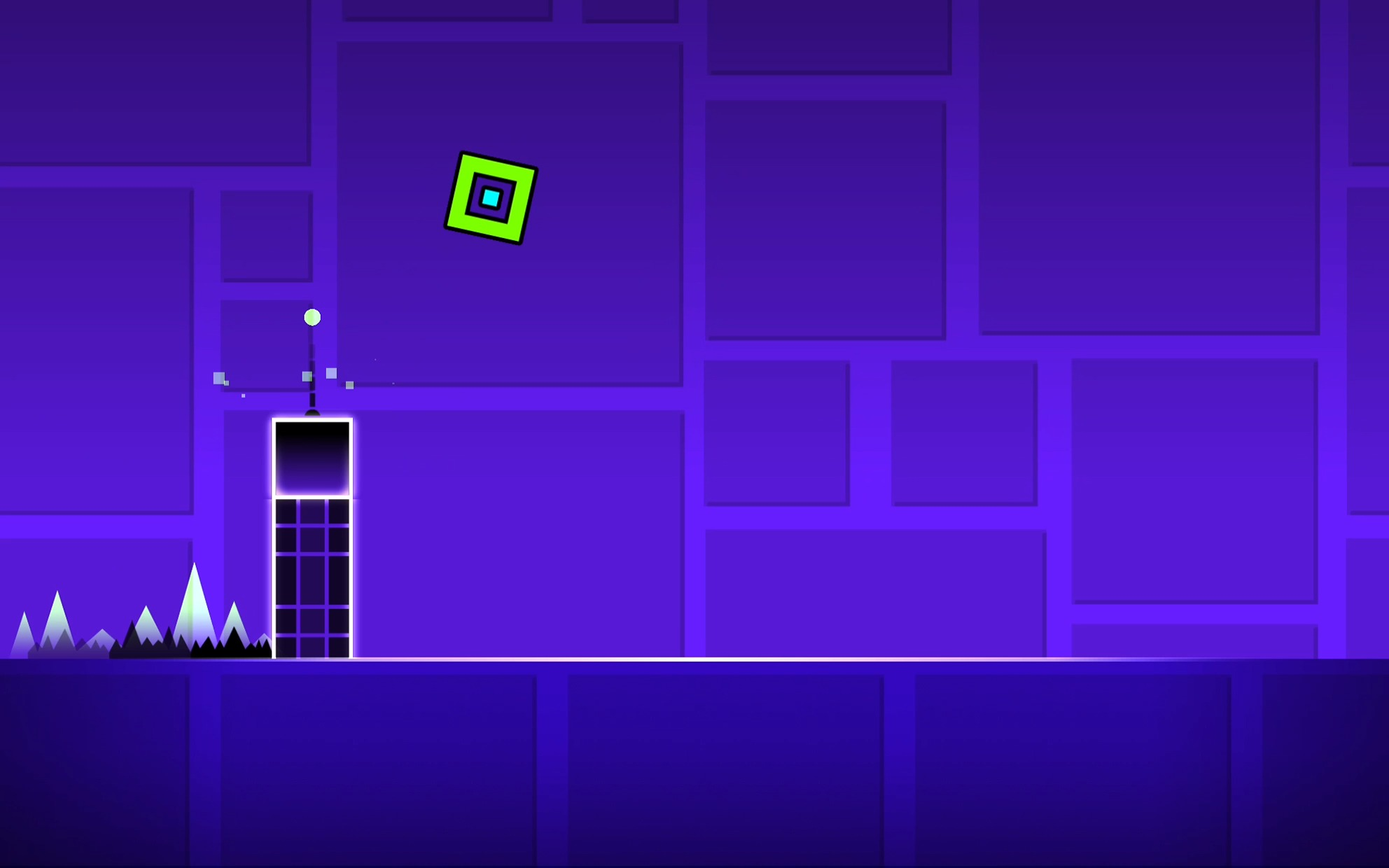Block: (272, 420, 352, 497)
Block2: (274, 493, 352, 661)
Player: (445, 150, 538, 244)
Spike2: (6, 626, 268, 664)
